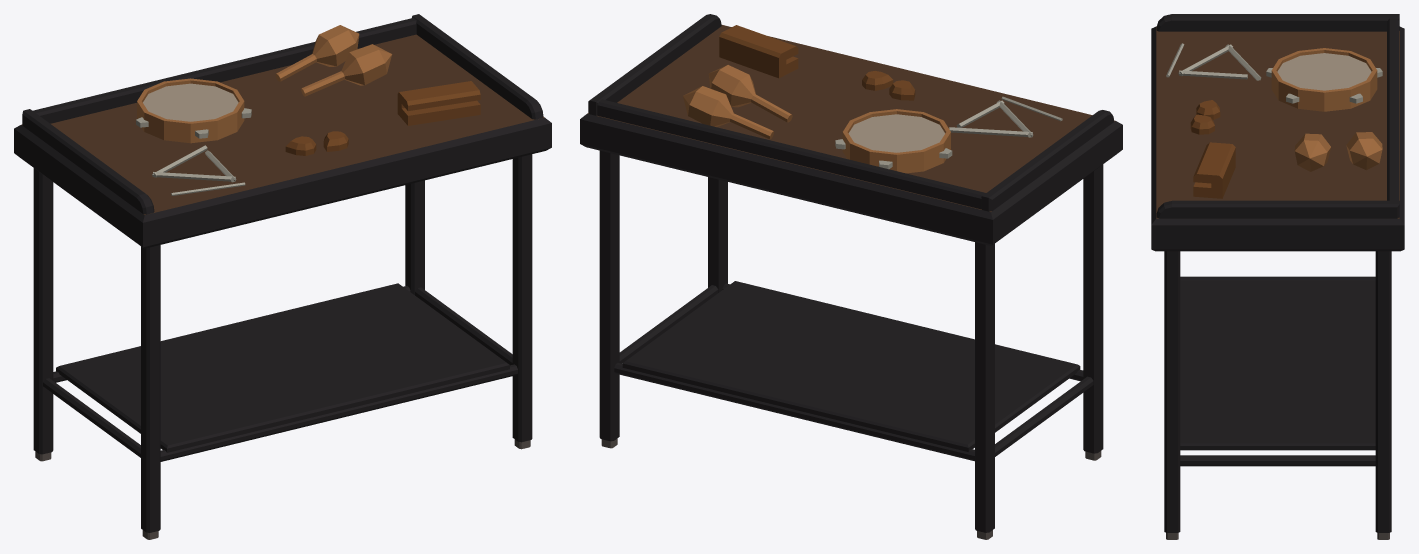
File: percussion-trap-table-3a81cf.glb
3 renders of one model, left to right at view 1: azimuth 30°, elevation 25°; view 2: azimuth 150°, elevation 25°; view 3: azimuth 270°, elevation 25°, orthographic. The views are drawn at different scales.
Parts seen in each view (by area): view 1: table-matte, tambourine-matte, maracas-matte, woodblock-matte, triangle-metal, castanets-matte; view 2: table-matte, tambourine-matte, maracas-matte, woodblock-matte, triangle-metal, castanets-matte; view 3: table-matte, tambourine-matte, maracas-matte, woodblock-matte, triangle-metal, castanets-matte, tambourine-metal.
Boxes of the visible parts, x1,y1,x2,y2 form: table-matte: (14, 14, 551, 539); tambourine-matte: (137, 78, 244, 143); maracas-matte: (275, 25, 392, 96); woodblock-matte: (397, 81, 480, 125); triangle-metal: (152, 145, 245, 195); castanets-matte: (285, 131, 348, 155); table-matte: (580, 14, 1122, 539); tambourine-matte: (842, 109, 950, 173); maracas-matte: (683, 65, 792, 139); woodblock-matte: (719, 25, 798, 78); triangle-metal: (949, 96, 1062, 137); castanets-matte: (862, 71, 915, 100); table-matte: (1151, 14, 1404, 539); tambourine-matte: (1271, 48, 1377, 111); maracas-matte: (1294, 132, 1382, 171); woodblock-matte: (1193, 142, 1235, 198); triangle-metal: (1166, 43, 1261, 80); castanets-matte: (1190, 100, 1220, 134); tambourine-metal: (1266, 68, 1382, 103).
Size of the model in its own units: 1.1 by 0.9402 by 0.6.
